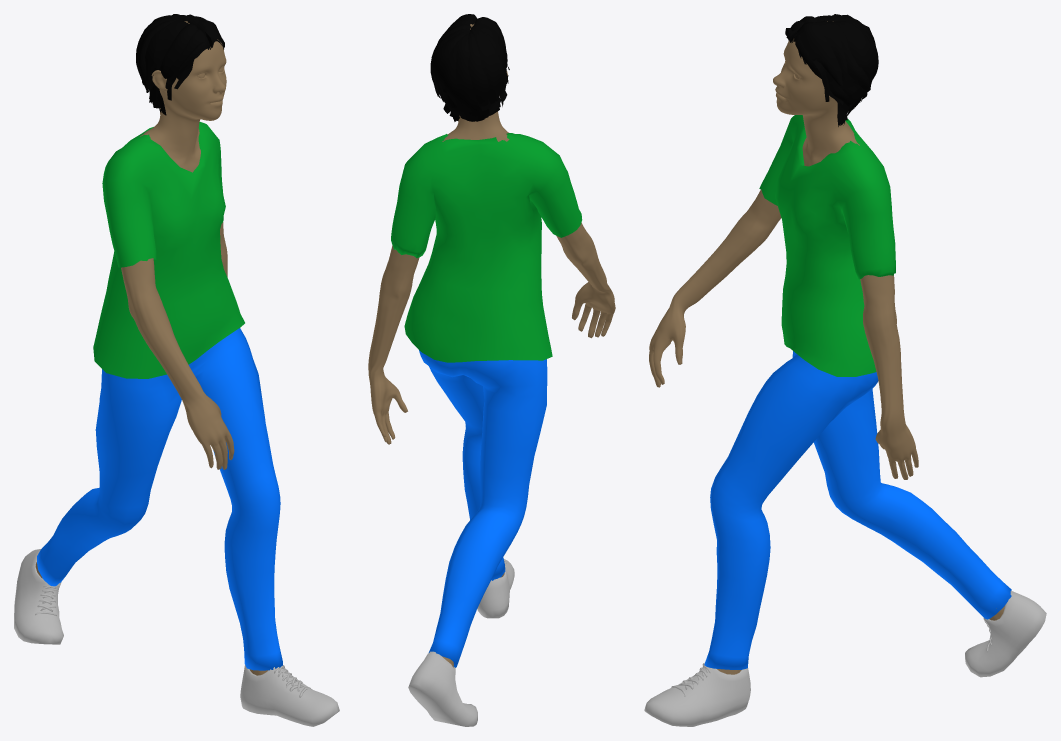
The model's file is Woman_07_Walking-transformed.glb.
3 views of the same model, side by side, from view 1: azimuth 30°, elevation 25°; view 2: azimuth 150°, elevation 25°; view 3: azimuth 270°, elevation 25° (orthographic). The views are drawn at different scales.
Visible parts, largest first — view 1: Bottoms.002, Top.002, Body.002, Shoes.002, Hair.002; view 2: Top.002, Bottoms.002, Body.002, Hair.002, Shoes.002; view 3: Bottoms.002, Top.002, Body.002, Shoes.002, Hair.002.
Part boxes in pixels (x1=…): Bottoms.002: x1=37, y1=328, x2=282, y2=670; Top.002: x1=93, y1=122, x2=244, y2=378; Body.002: x1=35, y1=21, x2=267, y2=675; Shoes.002: x1=14, y1=548, x2=339, y2=726; Hair.002: x1=136, y1=14, x2=224, y2=115; Top.002: x1=391, y1=133, x2=582, y2=362; Bottoms.002: x1=419, y1=350, x2=547, y2=667; Body.002: x1=368, y1=24, x2=615, y2=667; Hair.002: x1=430, y1=14, x2=509, y2=121; Shoes.002: x1=408, y1=559, x2=514, y2=726; Bottoms.002: x1=704, y1=351, x2=1011, y2=669; Top.002: x1=759, y1=115, x2=895, y2=376; Body.002: x1=649, y1=21, x2=1004, y2=674; Shoes.002: x1=644, y1=590, x2=1046, y2=726; Hair.002: x1=785, y1=14, x2=878, y2=126.
Bounding box in the file's own units: 0.4289 × 1.63 × 0.8723.
